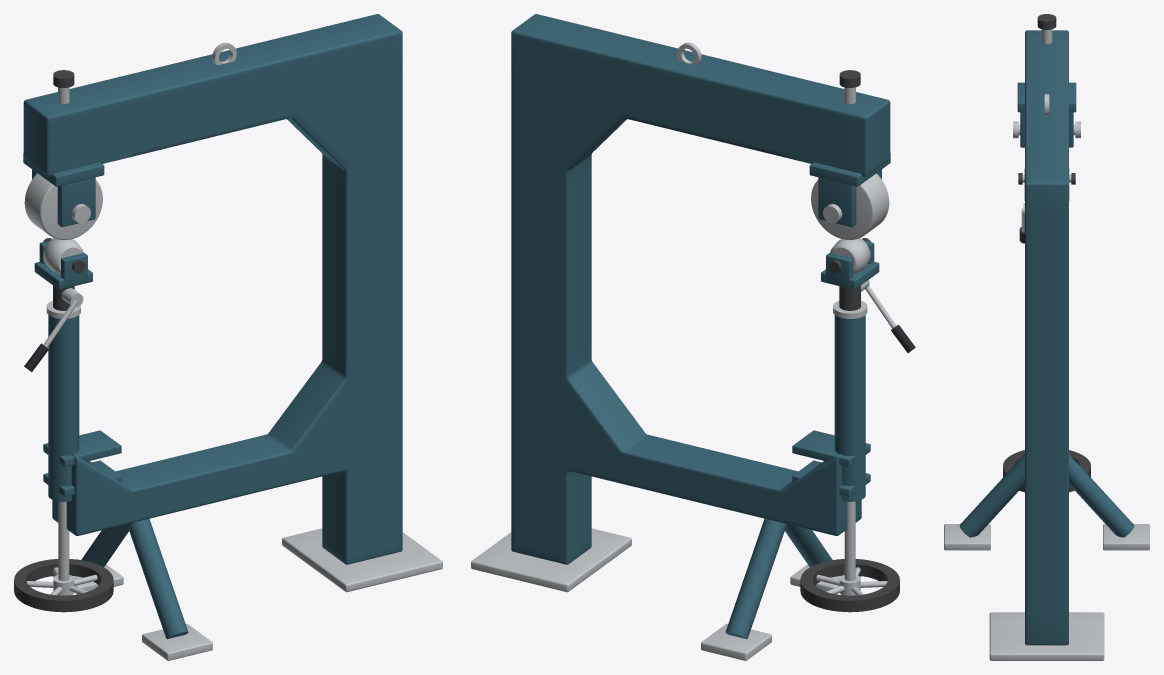
Rendered from A-NEW-20261026-ENGLISH-WHEEL-001_LOD0_R2.fbx.
The picture shows the model from 3 angles, left to right: view 1: azimuth 30°, elevation 25°; view 2: azimuth 150°, elevation 25°; view 3: azimuth 270°, elevation 25°; orthographic projection. The views are drawn at different scales.
Parts seen in each view (by area): view 1: deep C frame, lower column sleeve, rear broad base plate, foot adjustment handwheel, splayed front support, upper rolling wheel, front support base plate, upper yoke cheek, column frame bracket.001, splayed front support.001, upper yoke cap, lower adjustment stem (+2 smaller); view 2: deep C frame, lower column sleeve, rear broad base plate, foot adjustment handwheel, splayed front support.001, upper rolling wheel, front support base plate.001, upper yoke cheek.001, column frame bracket.001, splayed front support, upper yoke cap, lower adjustment stem (+2 smaller); view 3: deep C frame, rear broad base plate, splayed front support, splayed front support.001, front support base plate, front support base plate.001, foot adjustment handwheel, upper yoke cap.
Boxes of the visible parts, x1,y1,x2,y2 form: deep C frame: (23,14,402,564); lower column sleeve: (48,315,79,501); rear broad base plate: (282,528,442,592); foot adjustment handwheel: (14,559,113,612); splayed front support: (127,518,188,639); upper rolling wheel: (24,173,102,240); front support base plate: (142,623,212,660); upper yoke cheek: (57,177,95,227); column frame bracket.001: (43,430,121,466); splayed front support.001: (81,524,128,566); upper yoke cap: (23,153,104,186); lower adjustment stem: (58,501,69,580); deep C frame: (511,14,890,564); lower column sleeve: (834,315,865,501); rear broad base plate: (471,528,631,592); foot adjustment handwheel: (800,559,899,612); splayed front support.001: (725,518,786,639); upper rolling wheel: (811,173,889,240); front support base plate.001: (701,623,771,660); upper yoke cheek.001: (818,177,856,227); column frame bracket.001: (792,430,870,466); splayed front support: (785,524,832,566); upper yoke cap: (809,153,890,186); lower adjustment stem: (844,501,855,580); deep C frame: (1025,30,1068,645); rear broad base plate: (989,612,1104,660); splayed front support: (959,454,1024,537); splayed front support.001: (1069,454,1134,537); front support base plate: (944,524,990,550); front support base plate.001: (1103,524,1149,550); foot adjustment handwheel: (1003,450,1090,492); upper yoke cap: (1017,82,1076,112).
Bounding box in the file's own units: 139 × 185 × 70.
